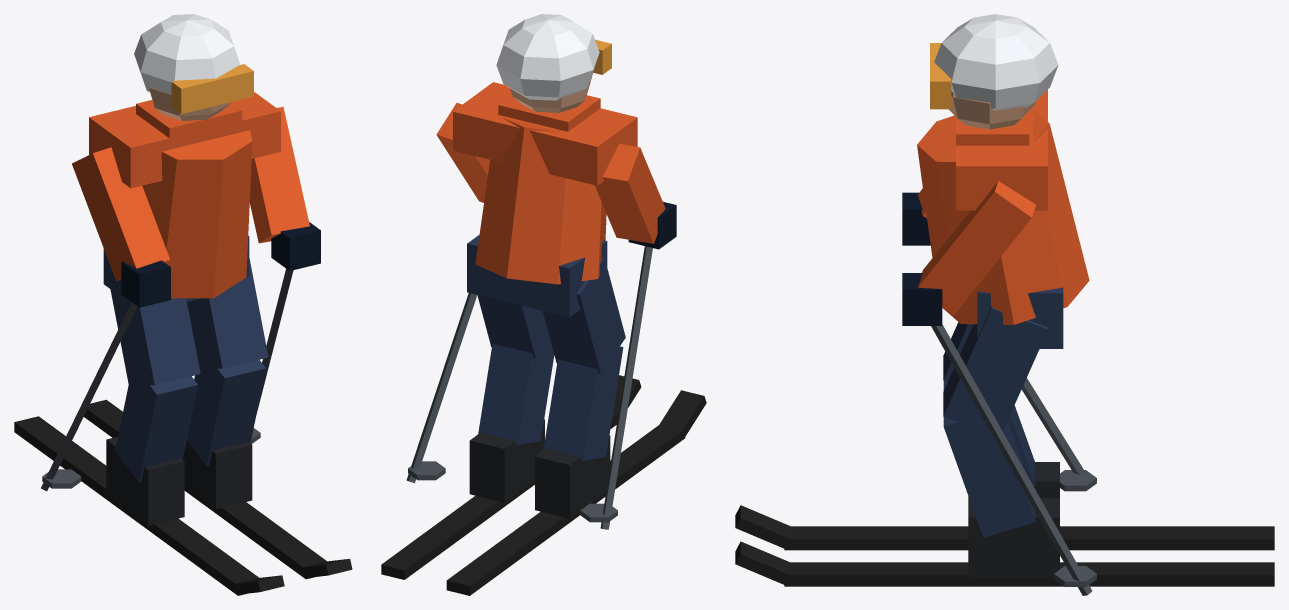
File: skier.glb
The picture shows the model from 3 angles, left to right: view 1: azimuth 30°, elevation 25°; view 2: azimuth 150°, elevation 25°; view 3: azimuth 270°, elevation 25°; orthographic projection. The views are drawn at different scales.
Parts seen in each view (by area): view 1: skier; view 2: skier; view 3: skier.
Boxes of the visible parts, <box> form: skier: <box>14,14,352,595</box>; skier: <box>381,14,706,595</box>; skier: <box>735,14,1274,595</box>.
Bounding box in the file's own units: 0.8013 × 1.8 × 1.62.
